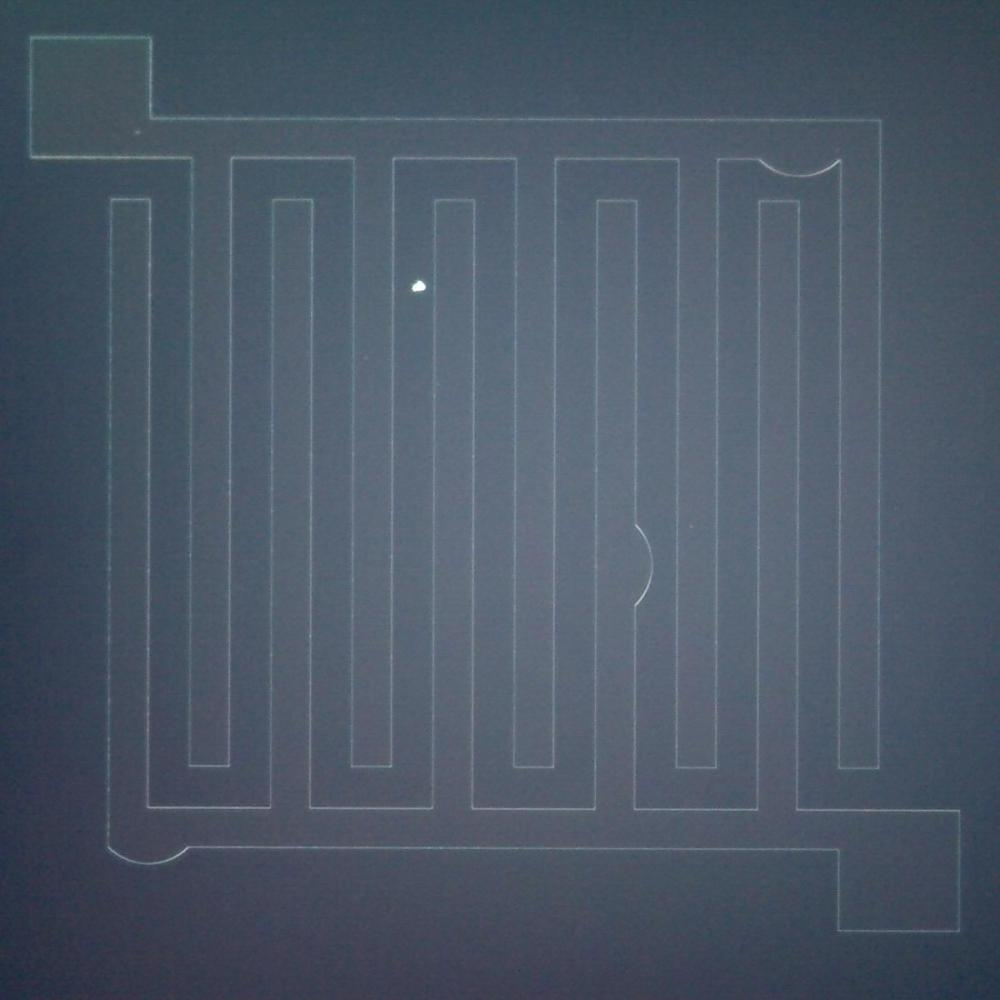curve circuit: (103, 827, 201, 877), (620, 508, 661, 626), (746, 146, 850, 186)
spot: (401, 270, 433, 302)
